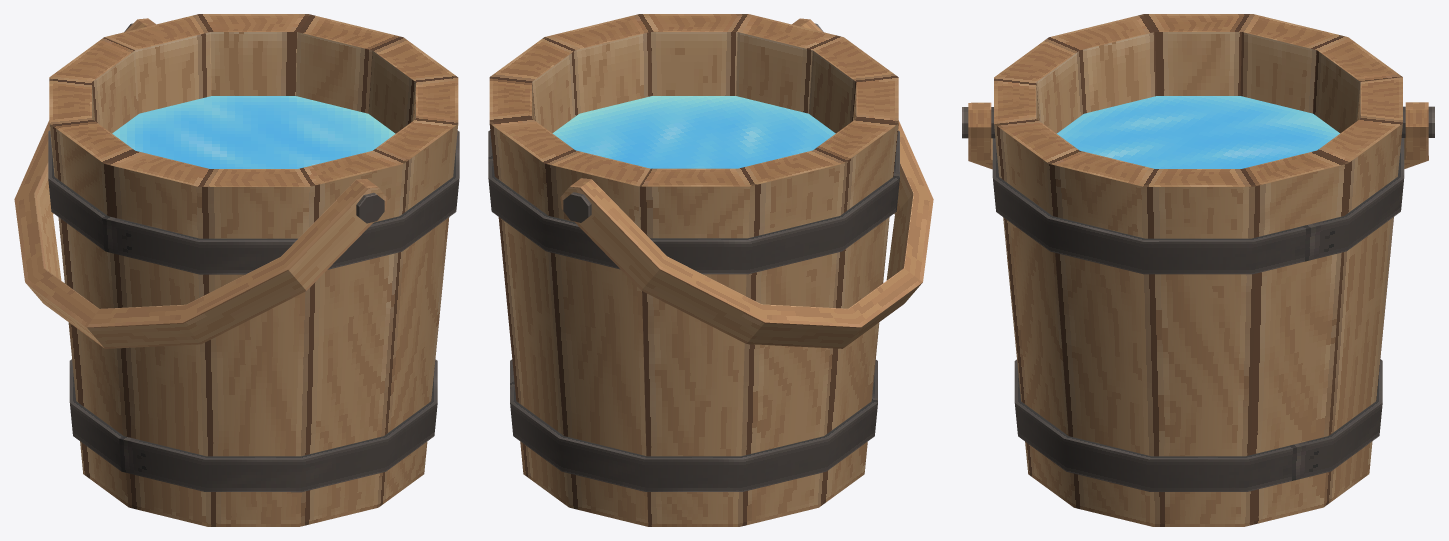
File: wooden_water_bucket.glb
3 renders of one model, left to right at view 1: azimuth 30°, elevation 25°; view 2: azimuth 150°, elevation 25°; view 3: azimuth 270°, elevation 25°, orthographic.
Parts seen in each view (by area): view 1: pDisc2; view 2: pDisc2; view 3: pDisc2.
Part boxes in pixels (x1,y1,x2,y2): pDisc2: (14,14,459,526); pDisc2: (488,14,933,526); pDisc2: (962,14,1434,526).
Bounding box in the file's own units: 0.0222 × 0.02 × 0.0242.
1 material, 1 textured.
